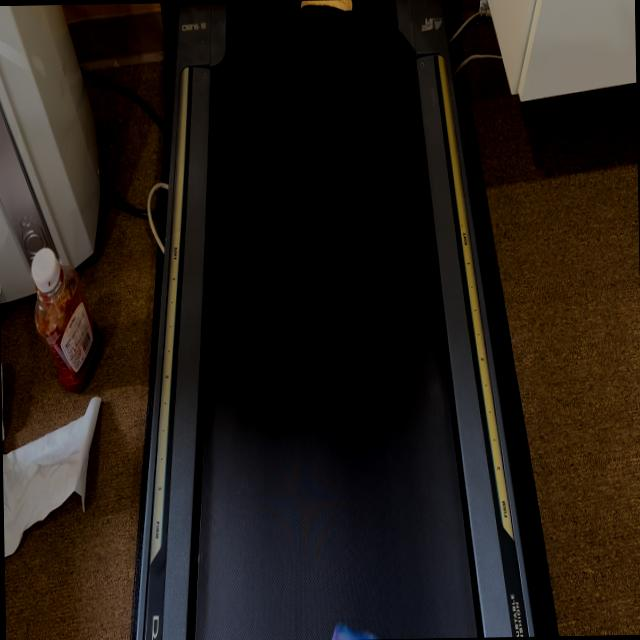Trash: (329, 620, 382, 640)
